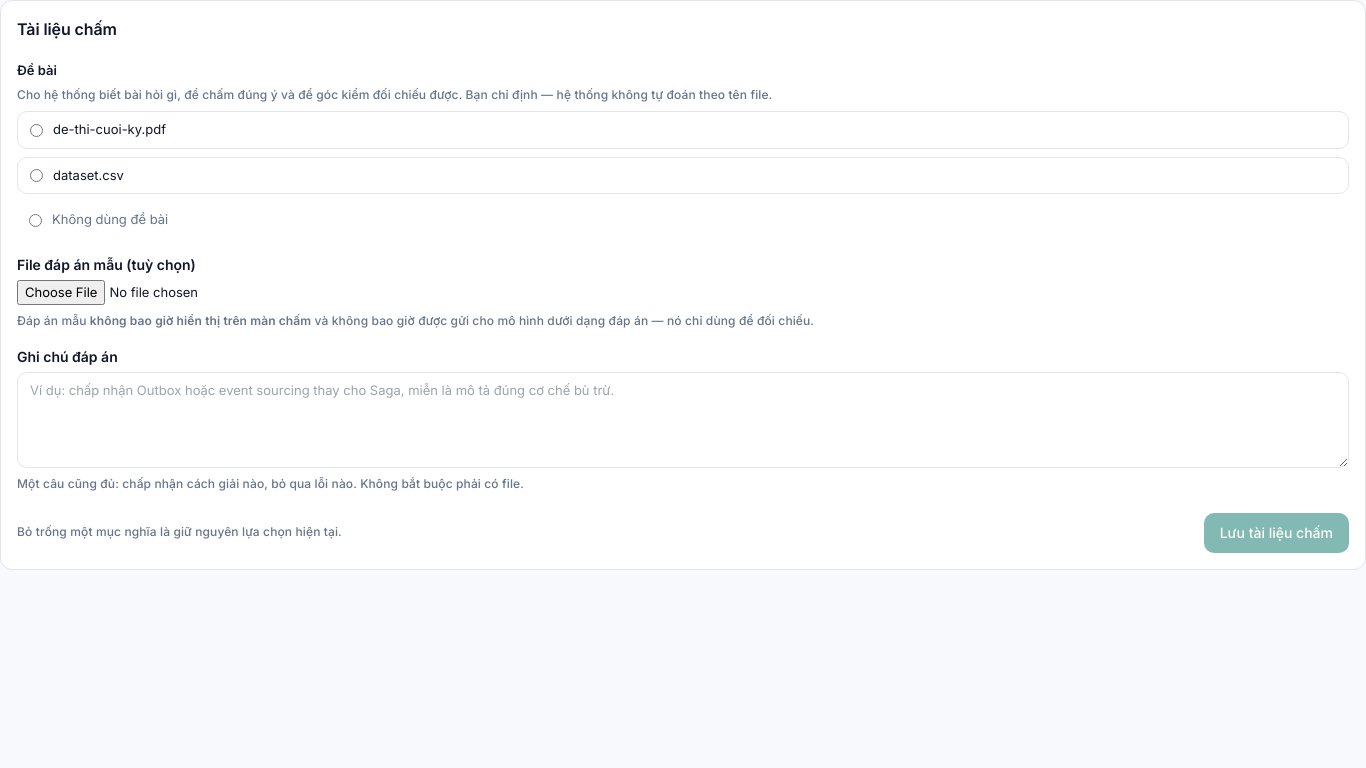
ReferenceForm (spec §3.7 — replaces GradingReferenceDialog, same write rules) › shows the server message verbatim when saving is refused (e.g. the session is locked)
Replace the text in the text box labelled "Ghi chú đáp án" with "x" at (683, 420), box [17,372,1349,468]
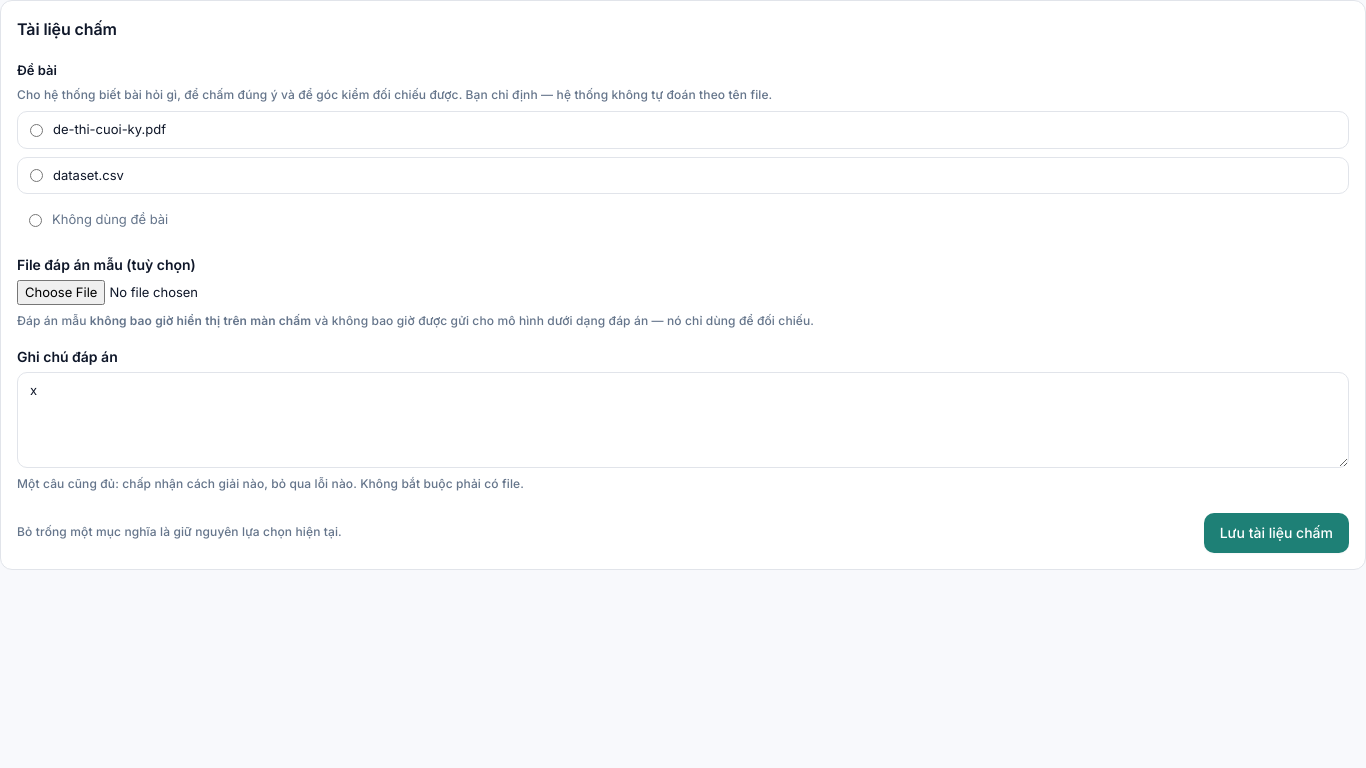
Click the button "Lưu tài liệu chấm" at (1276, 533), box [1204,513,1349,553]
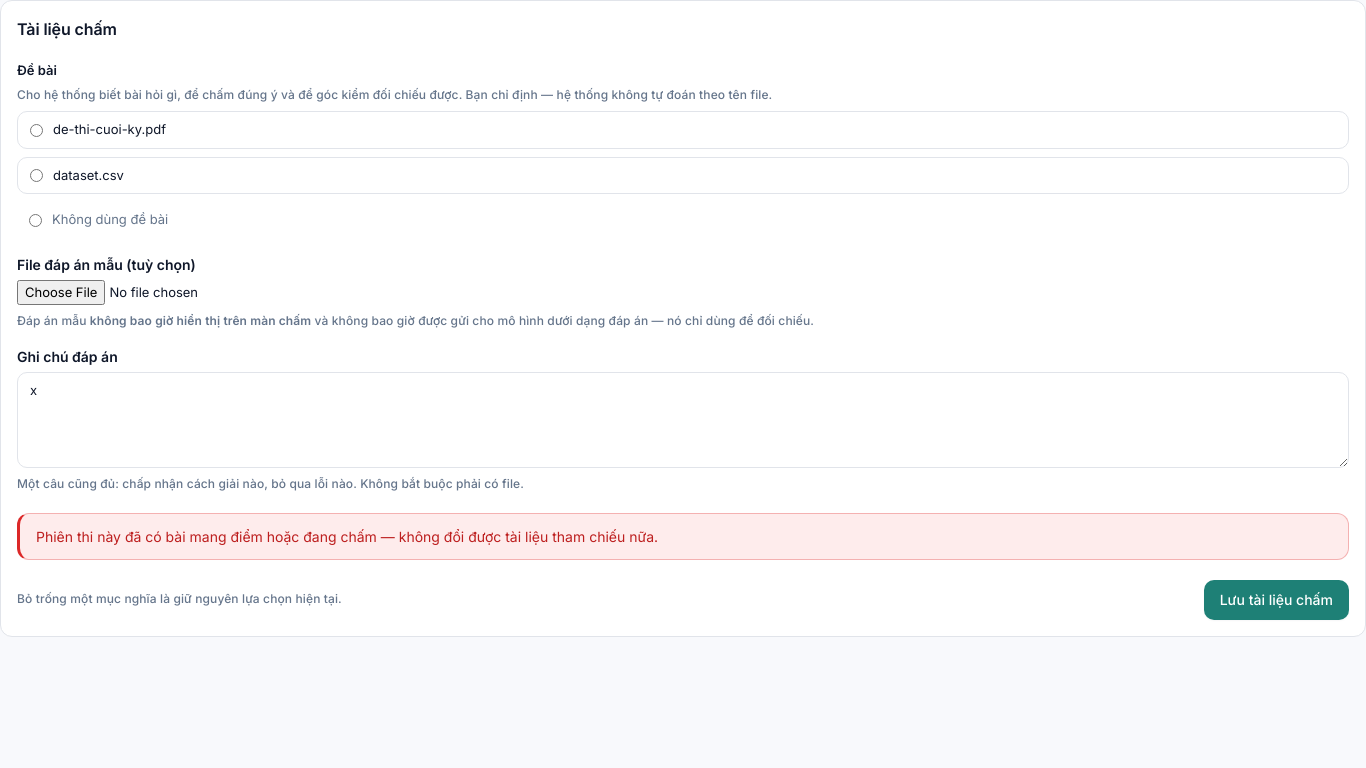
Check: the message shows "không đổi được tài liệu tham chiếu nữa", box [36,528,658,545]
